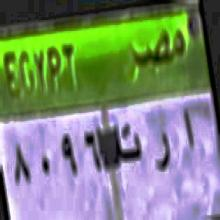0: (39, 153, 53, 178)
6: (84, 130, 101, 181)
8: (12, 144, 31, 190)
9: (59, 130, 79, 184)
alif: (180, 101, 196, 158)
raa: (153, 124, 173, 178)
taa: (113, 121, 142, 172)
